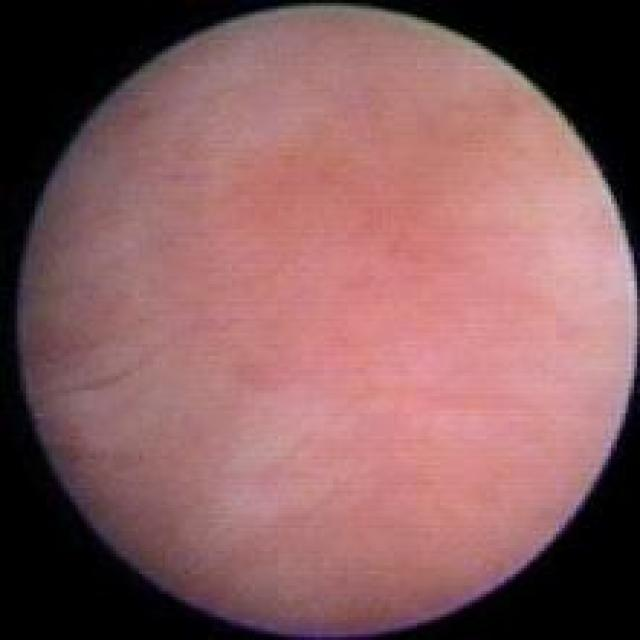blur: (15, 6, 638, 639)
